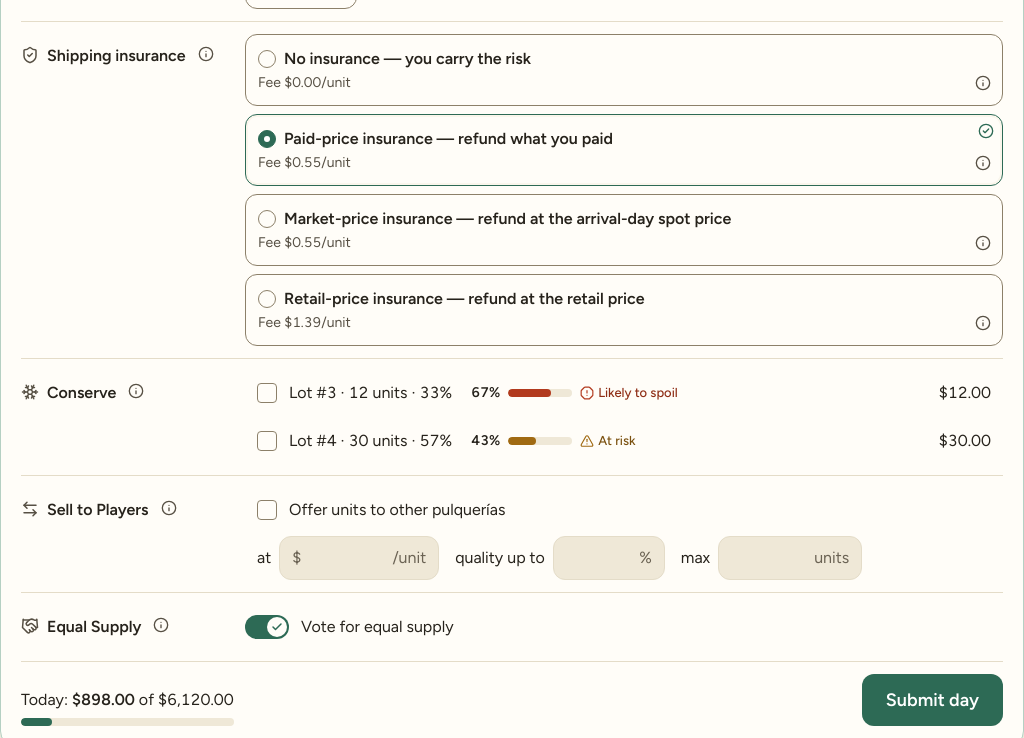
Test case: ticking and unticking (failure mode 10) › acceptance criterion 16: Submit day with Sell to Players ticked and empty sends nothing, shows all three messages and focuses the at field
(page scrolled)
Click the checkbox labelled "Offer units to other pulquerías": click(381, 510) [257,500,505,520]
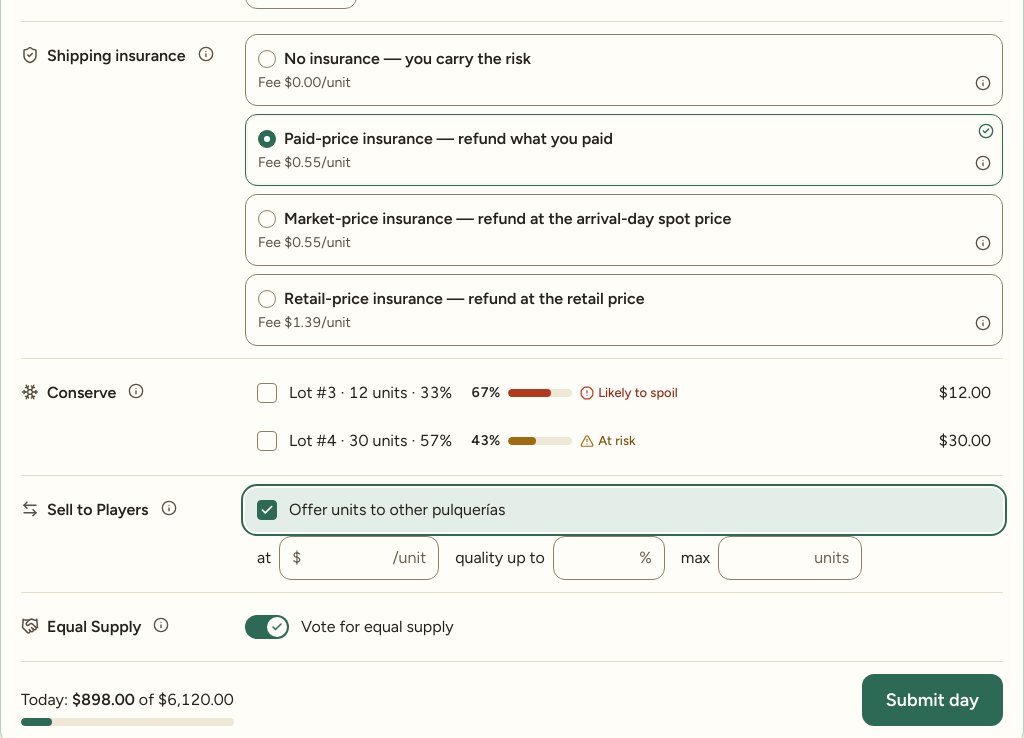
Click the button "Submit day": click(932, 700) [862,674,1003,726]
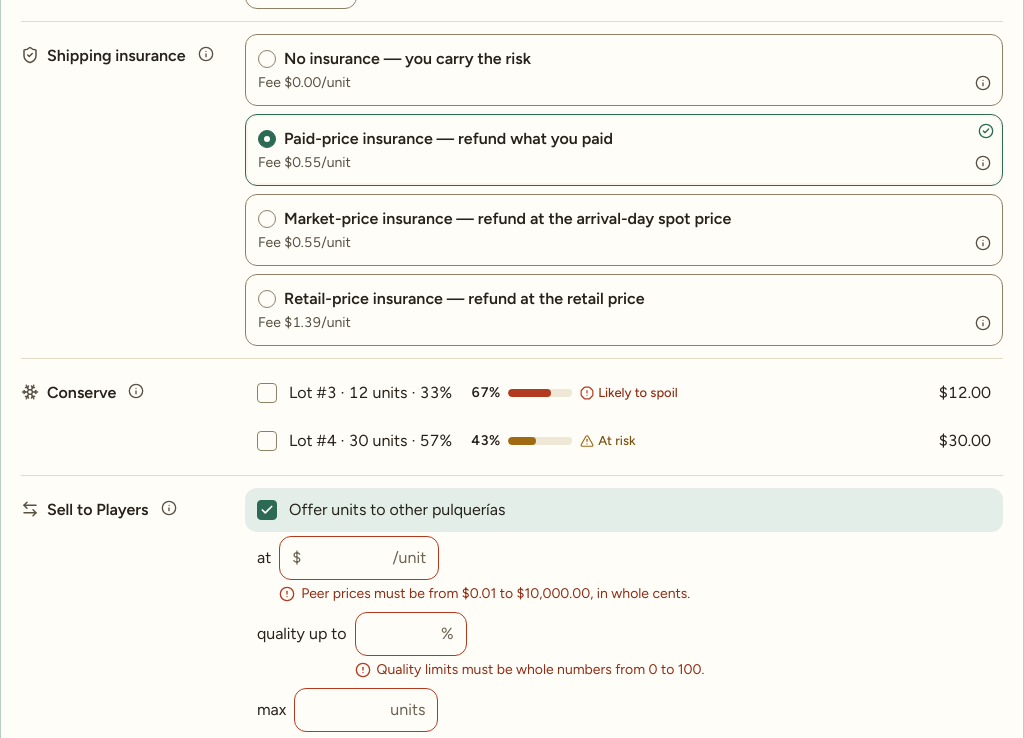
Check: the element showing "Quality limits must be whole numbers from 0 to 100." is shown, box [355,660,704,680]
